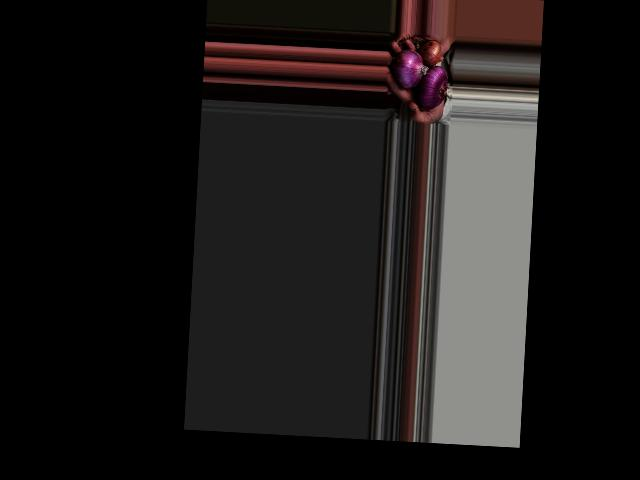onion: (418, 66, 447, 110)
